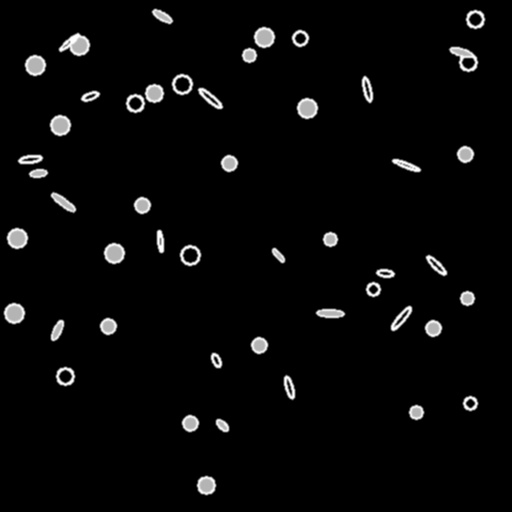pseudomonas: (197, 86, 223, 110), (390, 305, 412, 331), (50, 191, 76, 213), (58, 32, 80, 52), (425, 255, 447, 275), (392, 158, 420, 172), (152, 8, 172, 24), (361, 76, 373, 102), (50, 319, 64, 341), (283, 375, 295, 399), (449, 46, 473, 58), (214, 417, 230, 433), (18, 154, 42, 164), (316, 309, 344, 317), (271, 247, 285, 263), (81, 90, 99, 102), (210, 352, 222, 368), (156, 230, 164, 252), (29, 169, 47, 177), (377, 269, 393, 277)
synechocystis: (298, 99, 316, 117), (8, 229, 26, 247), (51, 116, 69, 134), (173, 75, 191, 93), (5, 304, 23, 322), (105, 244, 123, 262), (255, 28, 273, 46), (70, 36, 88, 54), (181, 246, 199, 264), (26, 56, 44, 74), (467, 11, 483, 27), (146, 85, 162, 101), (460, 54, 476, 70), (57, 368, 73, 384), (198, 477, 214, 493), (127, 95, 143, 111), (101, 319, 115, 333), (222, 156, 236, 170), (426, 321, 440, 335), (252, 338, 266, 352), (458, 147, 472, 161), (293, 31, 307, 45), (183, 416, 197, 430), (135, 198, 149, 212), (464, 397, 476, 409), (243, 49, 255, 61), (461, 292, 473, 304), (410, 406, 422, 418), (324, 233, 336, 245), (367, 283, 379, 295)
